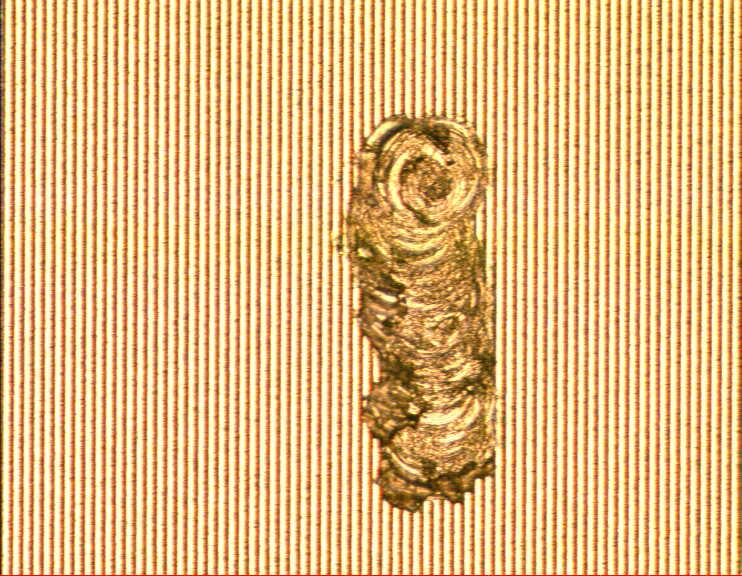SCRATCH: (329, 103, 507, 521)
